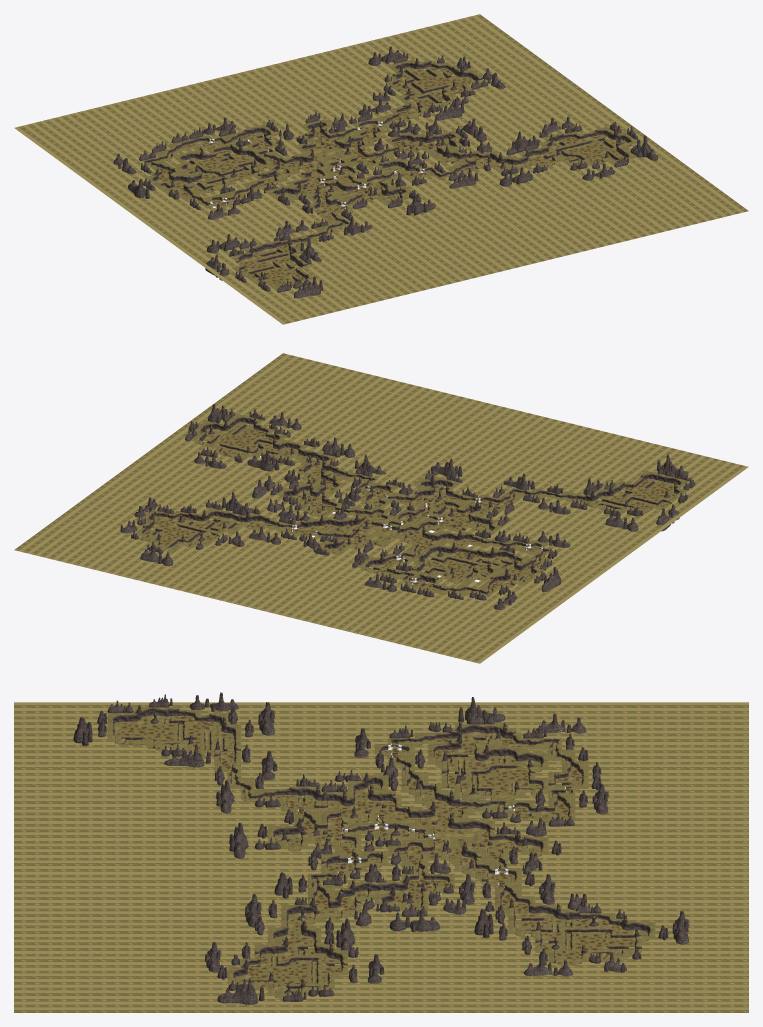
The model's file is map_F01_04.glb.
3 renders of one model, top to bottom at view 1: azimuth 30°, elevation 25°; view 2: azimuth 150°, elevation 25°; view 3: azimuth 270°, elevation 25°, orthographic. The views are drawn at different scales.
Visible parts, largest first — view 1: default_ground; view 2: default_ground; view 3: default_ground, FM_F01_mount01_ATA (×2), FM_F01_mount01_ASA.
Part boxes in pixels (x1,y1,x2,y2): default_ground: [14, 14, 748, 324]; default_ground: [14, 353, 748, 663]; default_ground: [14, 702, 748, 1012]; FM_F01_mount01_ATA (×2): [164, 744, 264, 1004]; FM_F01_mount01_ASA: [389, 910, 440, 932].
Bounding box in the file's own units: 1980 × 90.91 × 1980.
138 materials, 137 textured.
